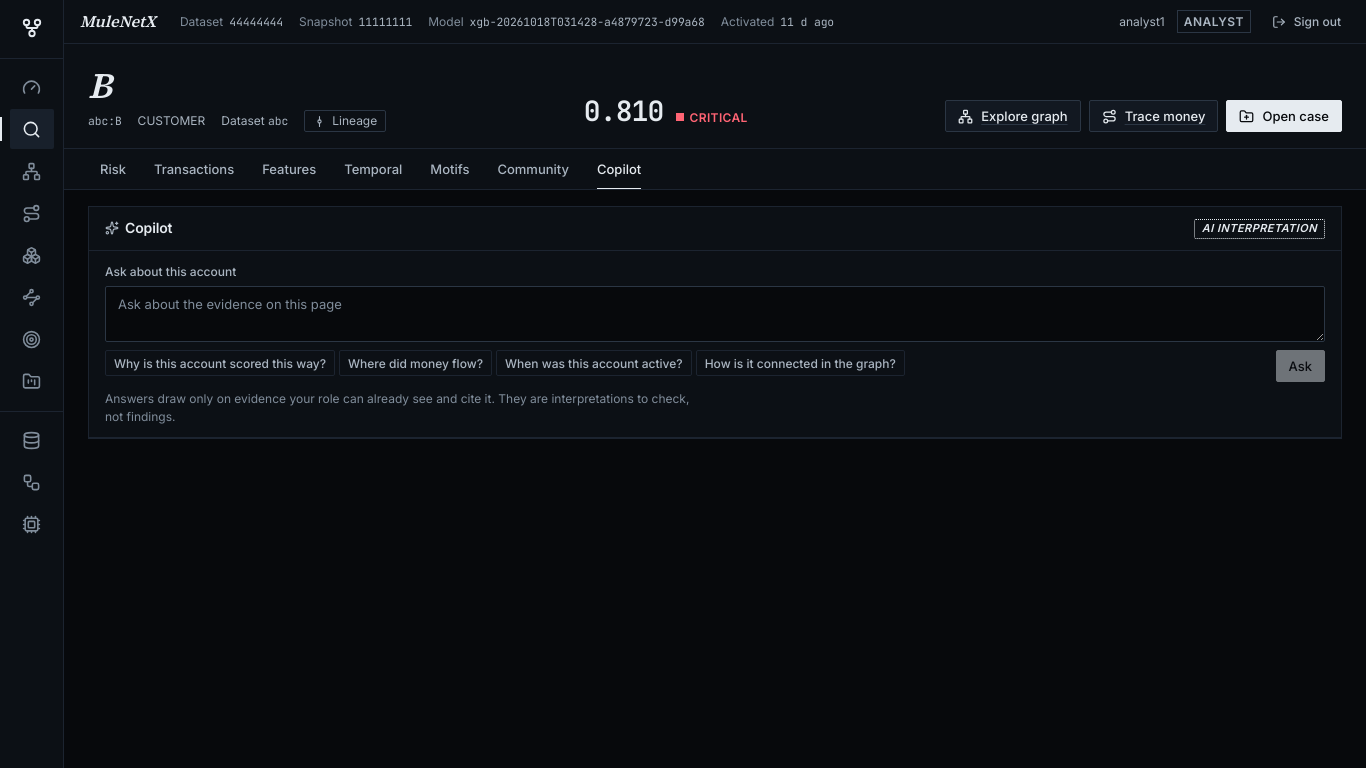
Test case: copilot panel (T41) › explains a discarded answer and a busy model
Click the button "Where did money flow?": [416, 363] box x1=339 y1=350 x2=492 y2=376
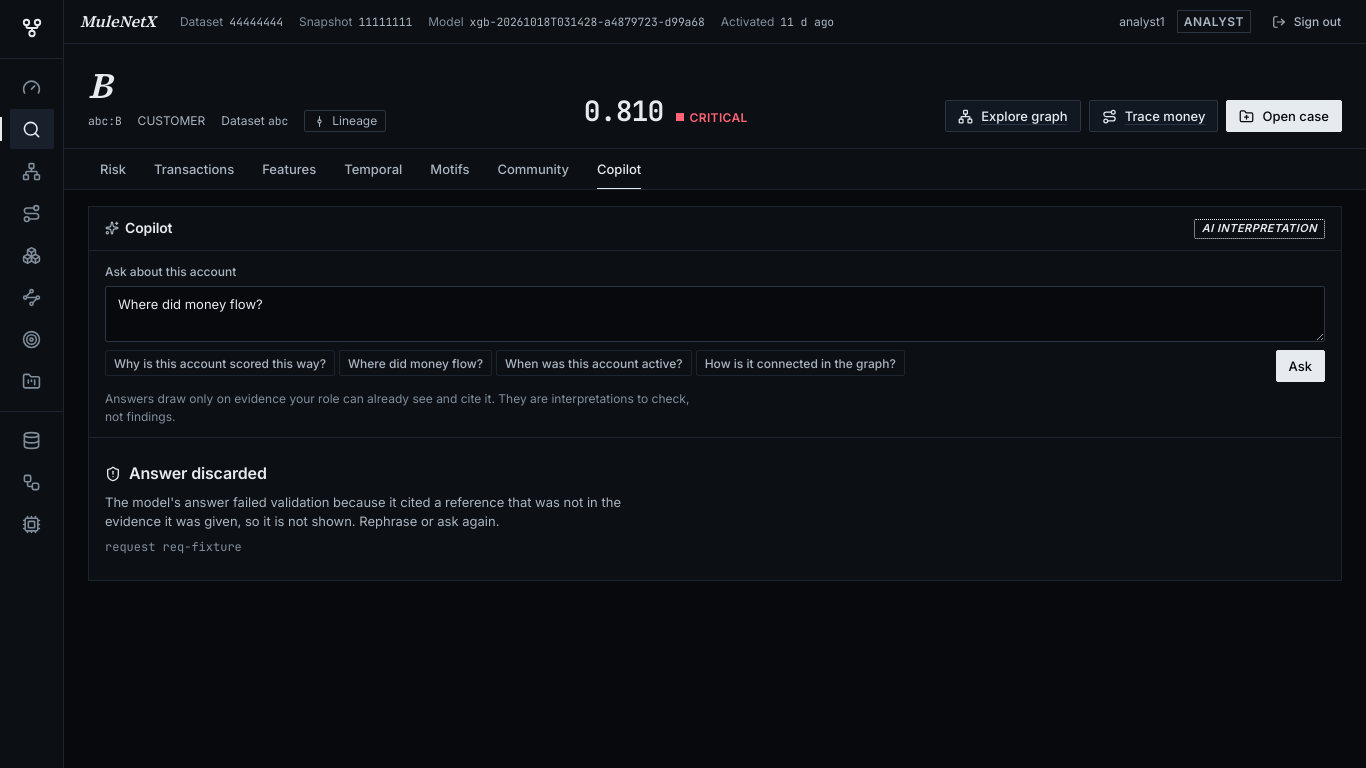
Check: the heading "Answer discarded" is shown, box x1=105 y1=463 x2=267 y2=483
Check: the text "cited a reference that was not in the evidence" is shown, box x1=105 y1=494 x2=621 y2=529
Click the button "Where did money flow?": [416, 363] box x1=339 y1=350 x2=492 y2=376
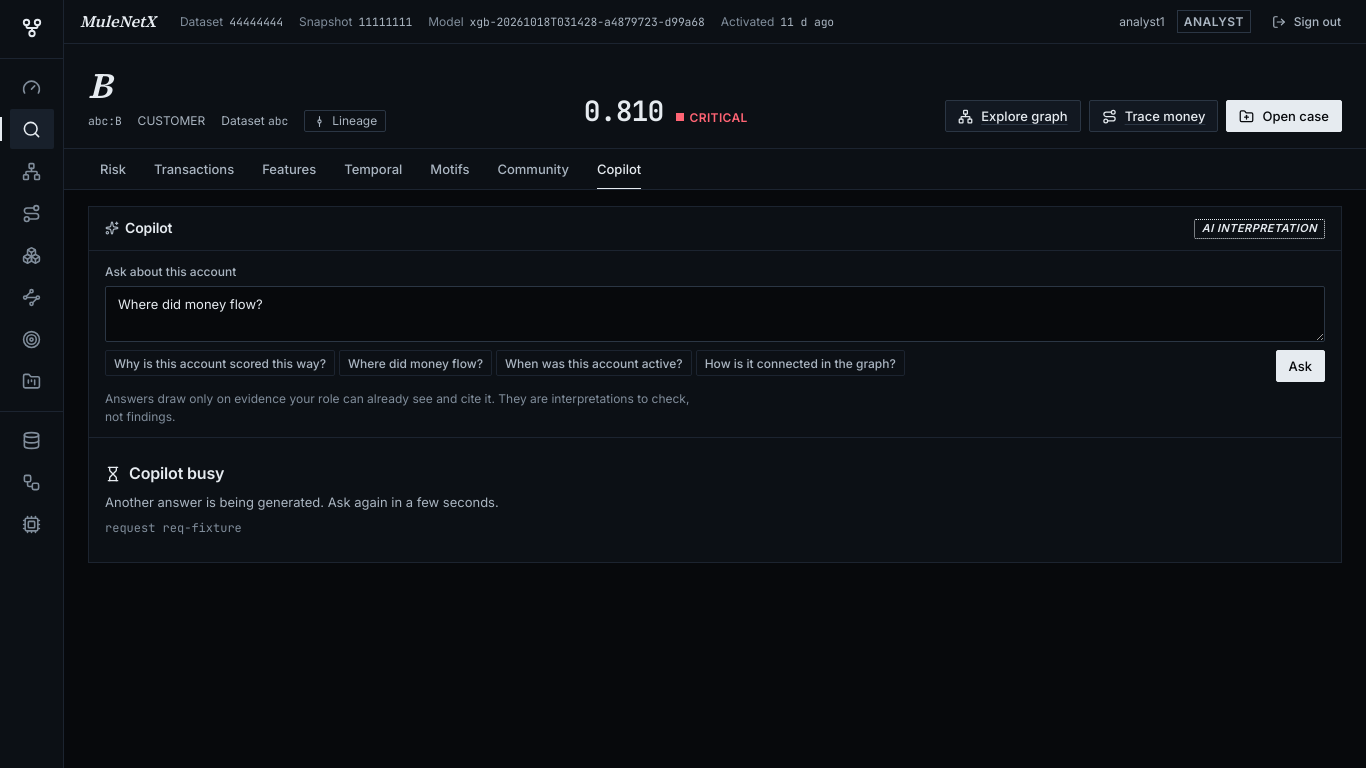
Check: the heading "Copilot busy" is shown, box x1=105 y1=463 x2=224 y2=483
